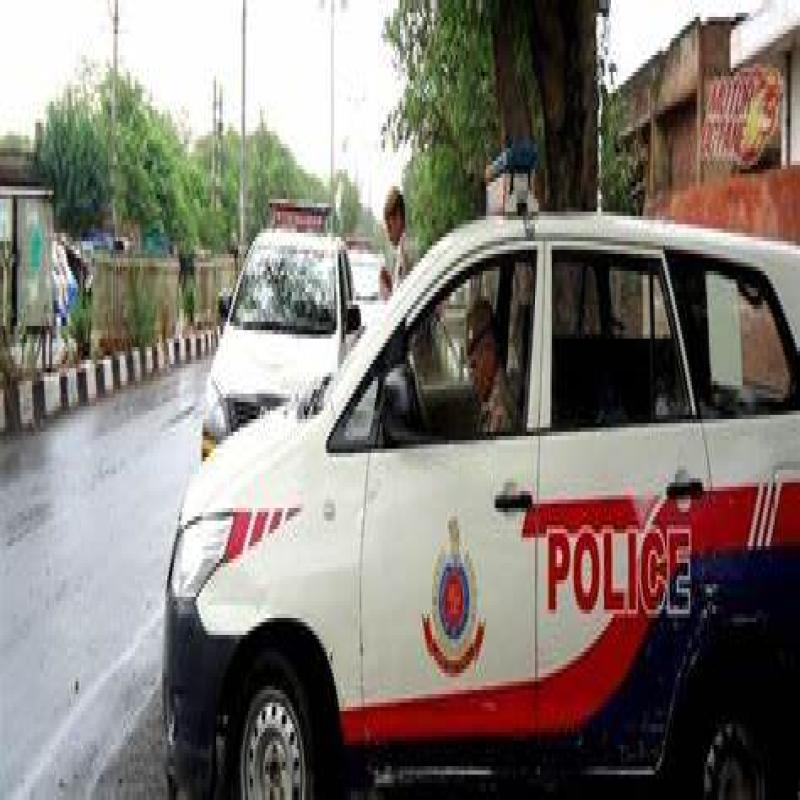AmbulanceSiren: (479, 125, 532, 196)
